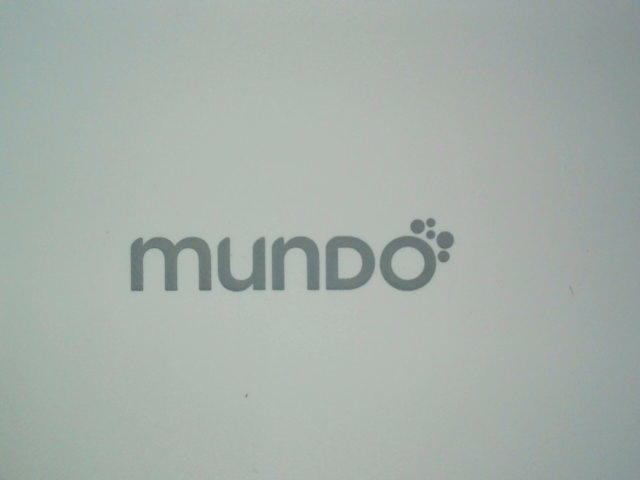BI_MUNDO: (116, 202, 458, 307)
